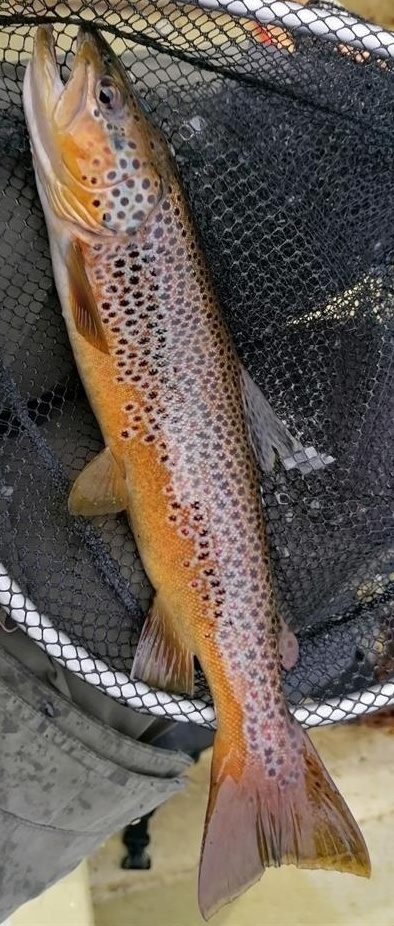Salmo trutta subsp. fario: (20, 20, 374, 922)
